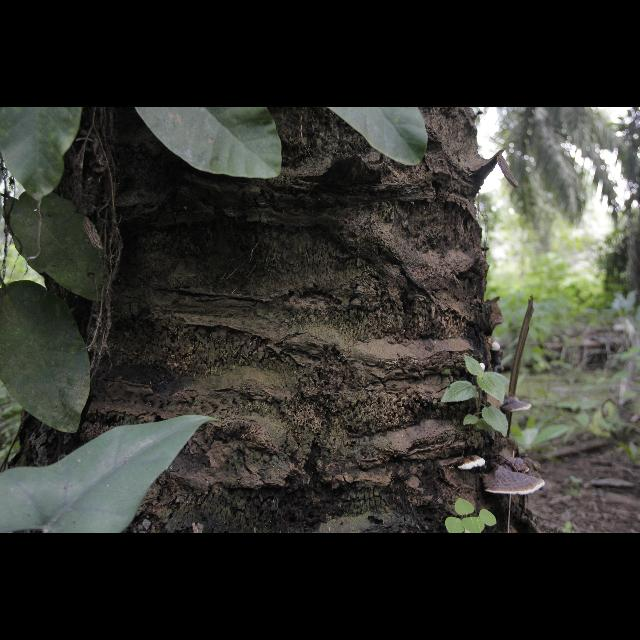ganoderma: (484, 466, 546, 496), (493, 459, 531, 476), (502, 396, 534, 414), (458, 457, 486, 472)
primordium: (490, 342, 502, 353), (481, 364, 487, 373)
